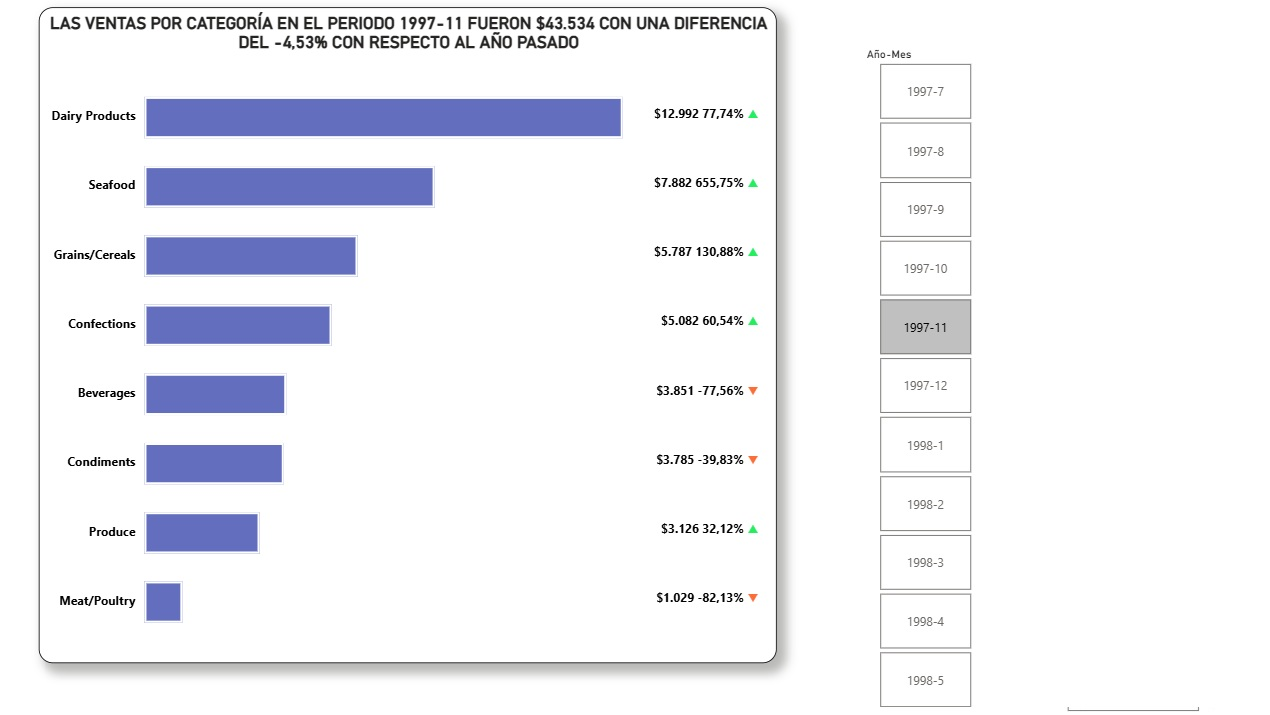

The page's visual inventory and layout, read from the dashboard file:
{"tool":"powerbi","page":{"name":"BARRA","canvas":[1280,720],"ordinal":1},"visuals":[{"type":"slicer","fields":{"Values":["CALENDARIO.Año-Mes"]},"box":[869,51.2,140.5,669],"z":1000},{"type":"clusteredBarChart","fields":{"Category":["Categories.CategoryName"],"Y":["MEDIDAS.MAX CATE SELE","MEDIDAS.VENTAS"]},"box":[59,16.1,734.7,652.5],"z":2000}]}

Visuals, with their boxes in screenshot pixels (x1, y1, x2, y2), scaled from the page's 1280x720 canvas onto the 1270x715 screenshot:
slicer - CALENDARIO.Año-Mes: BBox(862, 51, 1002, 714)
clusteredBarChart - Categories.CategoryName x MEDIDAS.MAX CATE SELE: BBox(59, 16, 787, 664)
